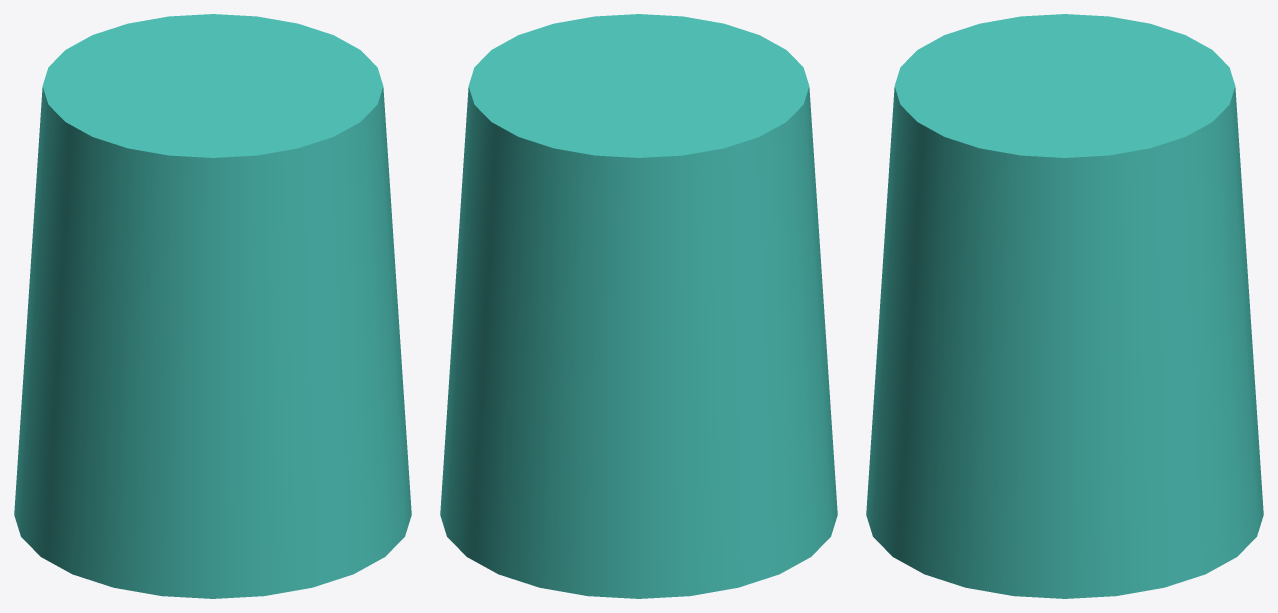
3 views of the same model, side by side, from view 1: azimuth 30°, elevation 25°; view 2: azimuth 150°, elevation 25°; view 3: azimuth 270°, elevation 25° (orthographic).
Size of the model in its own units: 0.84 by 1 by 0.84.
